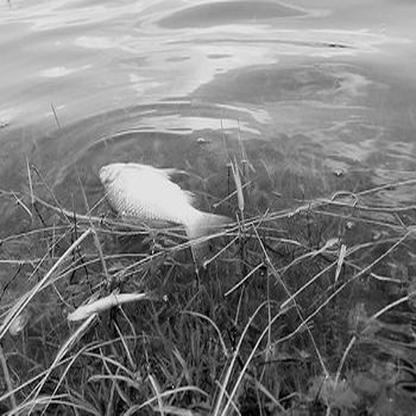deceased fish: (99, 158, 238, 263)
